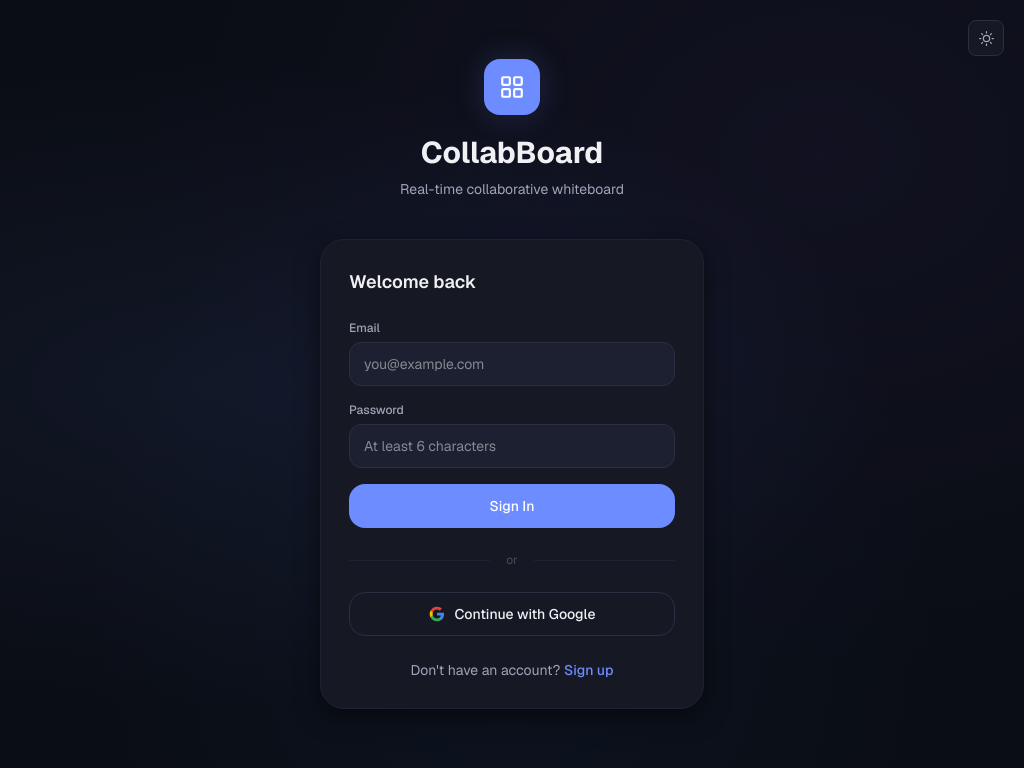
LoginPage › clears error when switching between login and signup
The width and height of the screenshot is (1024, 768).
Step 1. Type "test@test.com" into the field with placeholder "you@example.com" → (512, 364), box x1=349 y1=342 x2=675 y2=386
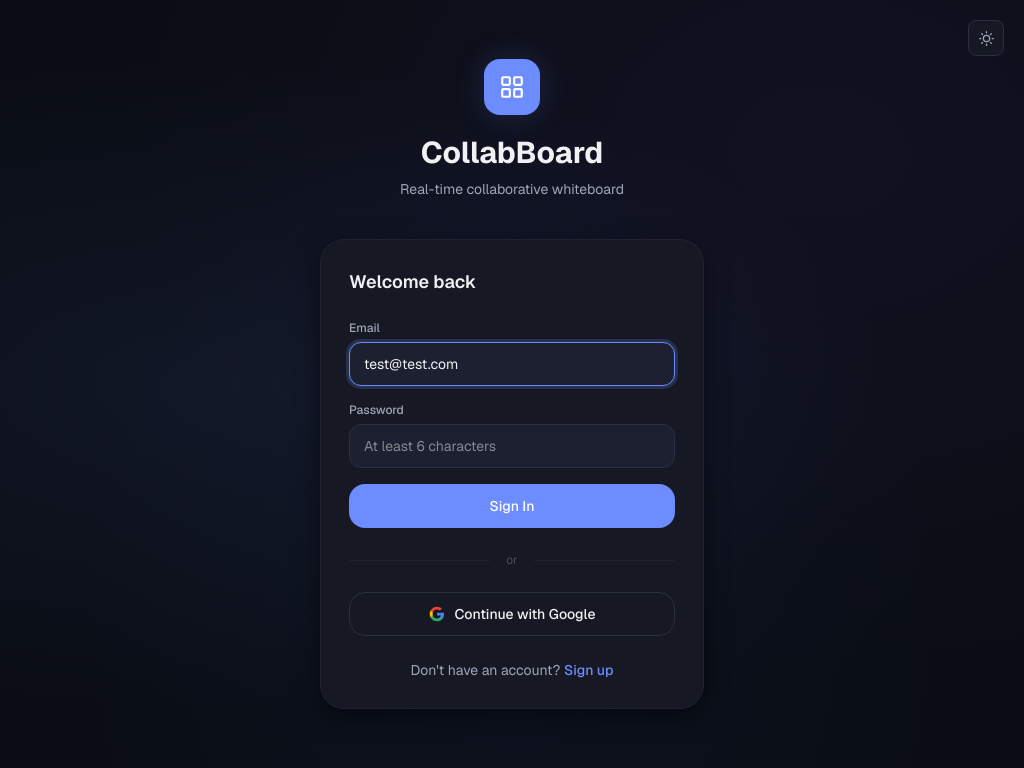
Step 2. Type "wrong" into the password field with placeholder "At least 6 characters" → (512, 446), box x1=349 y1=424 x2=675 y2=468
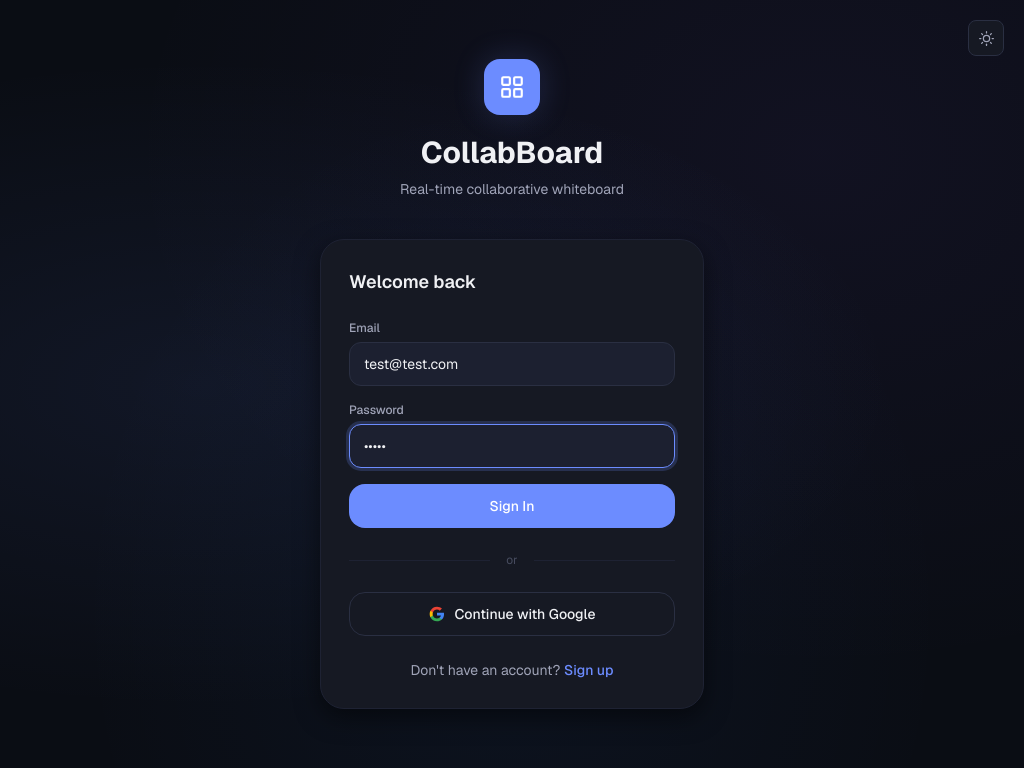
Step 3. Submit the form with placeholder "you@example.com", box x1=349 y1=320 x2=675 y2=528
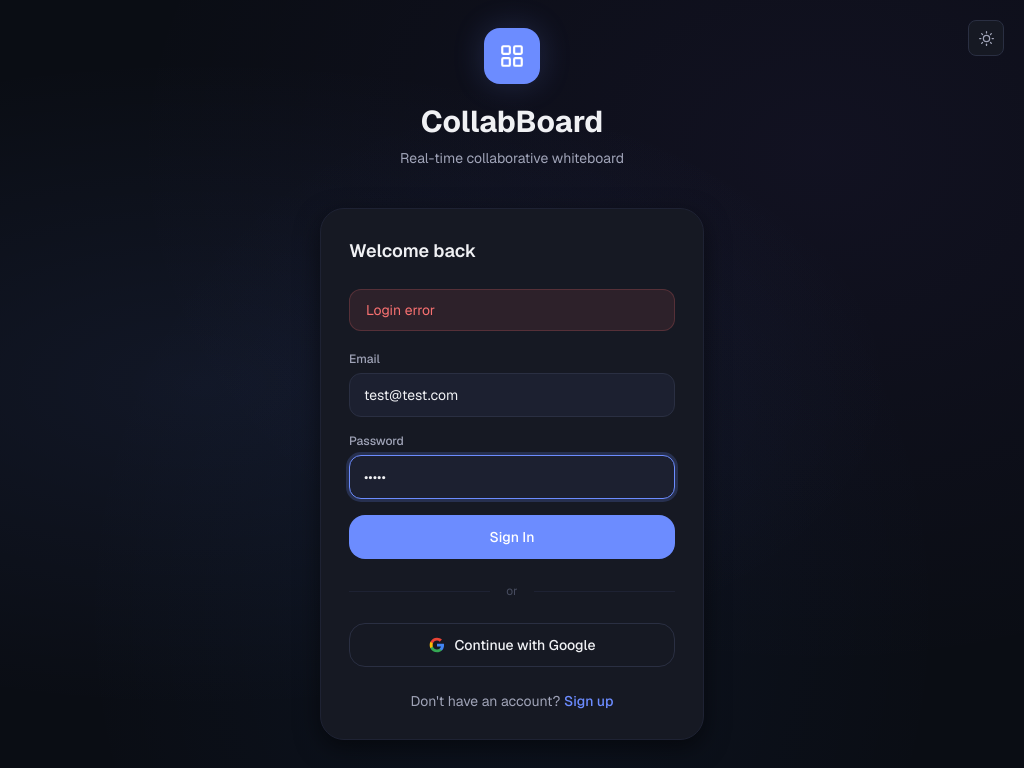
expect the text "Login error" is shown: met, box x1=349 y1=289 x2=675 y2=331
Step 4. Click the button "Sign up" → click(589, 701), box x1=564 y1=691 x2=614 y2=711
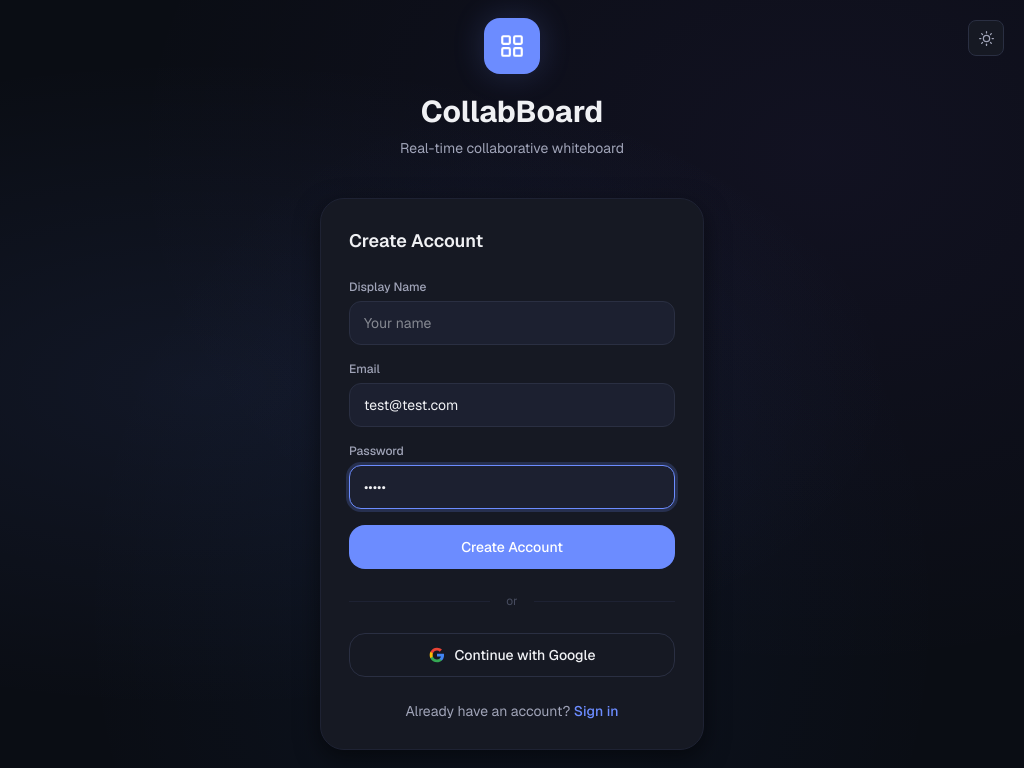
expect the text "Login error" is gone: met
